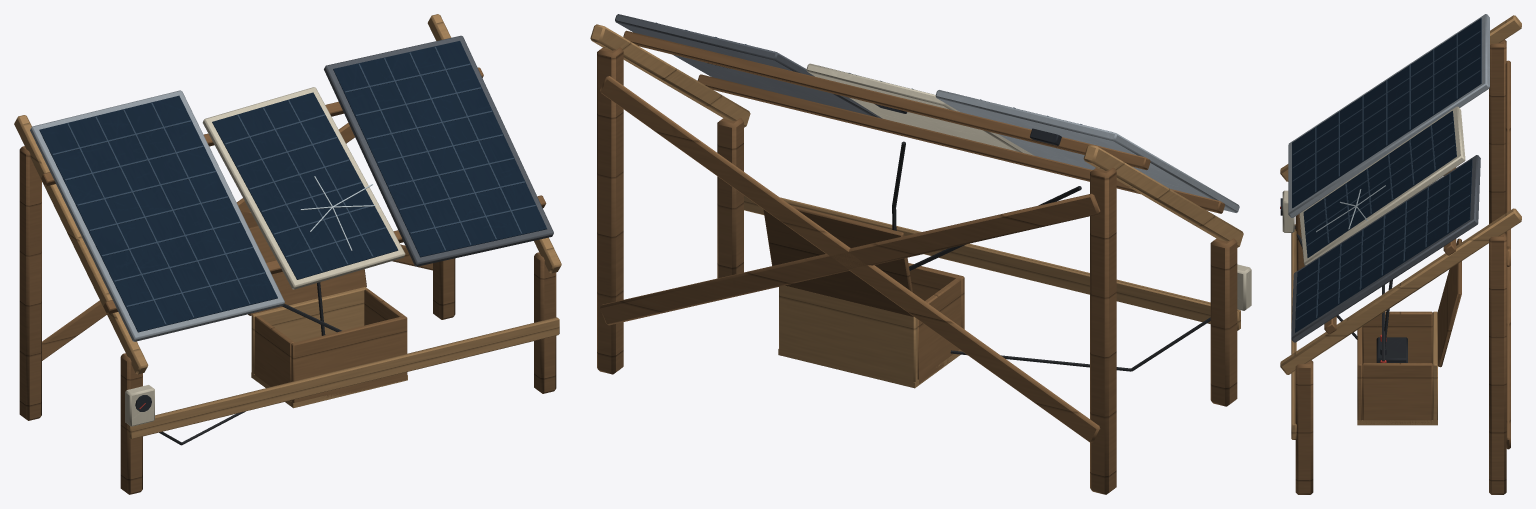
Rendered from solar_scrap_rig.glb.
3 views of the same model, side by side, from view 1: azimuth 30°, elevation 25°; view 2: azimuth 150°, elevation 25°; view 3: azimuth 270°, elevation 25° (orthographic). The views are drawn at different scales.
Parts seen in each view (by area): view 1: solar_scrap_rig; view 2: solar_scrap_rig; view 3: solar_scrap_rig.
Part boxes in pixels (left/top/right/bottom): solar_scrap_rig: left=14, top=14, right=561, bottom=494; solar_scrap_rig: left=590, top=14, right=1251, bottom=494; solar_scrap_rig: left=1280, top=14, right=1521, bottom=494.
Size of the model in its own units: 2.75 by 1.78 by 1.38.
Materials: 18 (18 with a texture image).
